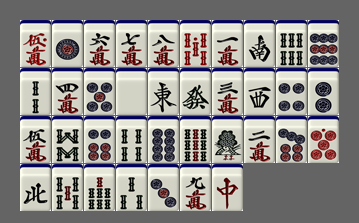0m: (20, 20, 51, 67)
0p: (308, 116, 339, 163)
0s: (180, 20, 211, 67)
1m: (212, 20, 243, 67)
1p: (52, 20, 83, 67)
1s: (212, 116, 243, 163)
1z: (148, 68, 179, 115)
2m: (244, 116, 275, 163)
2p: (308, 68, 339, 115)
2s: (20, 68, 51, 115)
2z: (244, 20, 275, 67)
3m: (212, 68, 243, 115)
3p: (148, 164, 179, 211)
3s: (116, 164, 147, 211)
3z: (244, 68, 275, 115)
4m: (52, 68, 83, 115)
4p: (276, 68, 307, 115)
4s: (116, 116, 147, 163)
4z: (20, 164, 51, 211)
5m: (20, 116, 51, 163)
5p: (84, 68, 115, 115)
5s: (52, 164, 83, 211)
5z: (116, 68, 147, 115)
6m: (84, 20, 115, 67)
6p: (84, 116, 115, 163)
6s: (276, 20, 307, 67)
6z: (180, 68, 211, 115)
7m: (116, 20, 147, 67)
7p: (276, 116, 307, 163)
7s: (84, 164, 115, 211)
7z: (212, 164, 243, 211)
8m: (148, 20, 179, 67)
8p: (148, 116, 179, 163)
8s: (52, 116, 83, 163)
9m: (180, 164, 211, 211)
9p: (308, 20, 339, 67)
9s: (180, 116, 211, 163)
